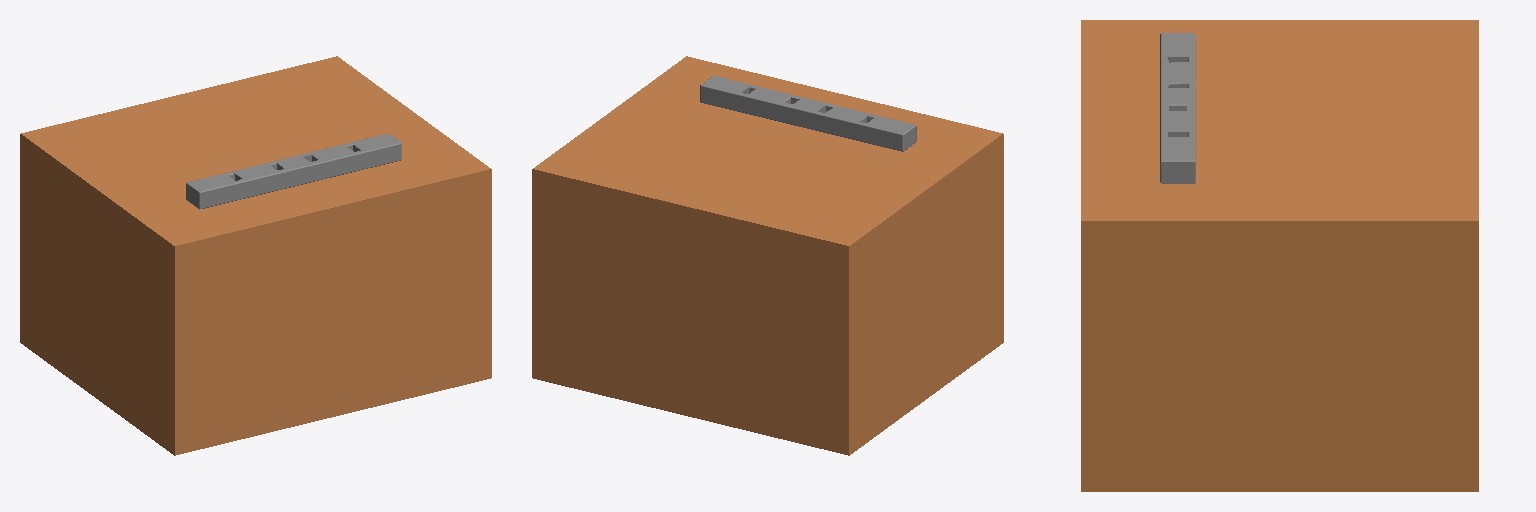
The robot description file, URDF, robot "table_beam_2x_2_scene_0001":
<?xml version="1.0"?>
<robot name="table_beam_2x_2_scene_0001">
  <link name="box">
    <visual>
      <material name="wood"><color rgba="0.82 0.56 0.35 1.0"/></material>
      <origin xyz="0 0 0"/>
      <geometry><box size="0.475 0.4 0.3"/></geometry>
    </visual>
    <collision>
      <origin xyz="0 0 0"/>
      <geometry><box size="0.475 0.4 0.3"/></geometry>
    </collision>
    <inertial>
      <mass value="500"/>
      <friction value="1.0"/>
      <inertia ixx="1000.0" ixy="0.0" ixz="0.0" iyy="1000.0" iyz="0.0" izz="1000.0"/>
    </inertial>
  </link>
  <link name="part_6_hull_0">
    <visual>
      <origin xyz="0 0 0" rpy="0 0 0"/>
      <geometry><mesh filename="../../6/coacd/decomp_0.obj" scale="1 1 1"/></geometry>
      <material name="placed_0"><color rgba="0.6 0.6 0.6 1.0"/></material>
    </visual>
    <collision>
      <origin xyz="0 0 0" rpy="0 0 0"/>
      <geometry><mesh filename="../../6/coacd/decomp_0.obj" scale="1 1 1"/></geometry>
    </collision>
  </link>
  <joint name="part_6_hull_0_joint" type="fixed">
    <parent link="box"/>
    <child link="part_6_hull_0"/>
    <origin xyz="-0.001603 -0.102223 0.162666" rpy="0.000000 0.000000 0.000000"/>
  </joint>
  <link name="part_6_hull_1">
    <visual>
      <origin xyz="0 0 0" rpy="0 0 0"/>
      <geometry><mesh filename="../../6/coacd/decomp_1.obj" scale="1 1 1"/></geometry>
      <material name="placed_1"><color rgba="0.6 0.6 0.6 1.0"/></material>
    </visual>
    <collision>
      <origin xyz="0 0 0" rpy="0 0 0"/>
      <geometry><mesh filename="../../6/coacd/decomp_1.obj" scale="1 1 1"/></geometry>
    </collision>
  </link>
  <joint name="part_6_hull_1_joint" type="fixed">
    <parent link="box"/>
    <child link="part_6_hull_1"/>
    <origin xyz="-0.001603 -0.102223 0.162666" rpy="0.000000 0.000000 0.000000"/>
  </joint>
  <link name="part_6_hull_2">
    <visual>
      <origin xyz="0 0 0" rpy="0 0 0"/>
      <geometry><mesh filename="../../6/coacd/decomp_10.obj" scale="1 1 1"/></geometry>
      <material name="placed_2"><color rgba="0.6 0.6 0.6 1.0"/></material>
    </visual>
    <collision>
      <origin xyz="0 0 0" rpy="0 0 0"/>
      <geometry><mesh filename="../../6/coacd/decomp_10.obj" scale="1 1 1"/></geometry>
    </collision>
  </link>
  <joint name="part_6_hull_2_joint" type="fixed">
    <parent link="box"/>
    <child link="part_6_hull_2"/>
    <origin xyz="-0.001603 -0.102223 0.162666" rpy="0.000000 0.000000 0.000000"/>
  </joint>
  <link name="part_6_hull_3">
    <visual>
      <origin xyz="0 0 0" rpy="0 0 0"/>
      <geometry><mesh filename="../../6/coacd/decomp_11.obj" scale="1 1 1"/></geometry>
      <material name="placed_3"><color rgba="0.6 0.6 0.6 1.0"/></material>
    </visual>
    <collision>
      <origin xyz="0 0 0" rpy="0 0 0"/>
      <geometry><mesh filename="../../6/coacd/decomp_11.obj" scale="1 1 1"/></geometry>
    </collision>
  </link>
  <joint name="part_6_hull_3_joint" type="fixed">
    <parent link="box"/>
    <child link="part_6_hull_3"/>
    <origin xyz="-0.001603 -0.102223 0.162666" rpy="0.000000 0.000000 0.000000"/>
  </joint>
  <link name="part_6_hull_4">
    <visual>
      <origin xyz="0 0 0" rpy="0 0 0"/>
      <geometry><mesh filename="../../6/coacd/decomp_12.obj" scale="1 1 1"/></geometry>
      <material name="placed_4"><color rgba="0.6 0.6 0.6 1.0"/></material>
    </visual>
    <collision>
      <origin xyz="0 0 0" rpy="0 0 0"/>
      <geometry><mesh filename="../../6/coacd/decomp_12.obj" scale="1 1 1"/></geometry>
    </collision>
  </link>
  <joint name="part_6_hull_4_joint" type="fixed">
    <parent link="box"/>
    <child link="part_6_hull_4"/>
    <origin xyz="-0.001603 -0.102223 0.162666" rpy="0.000000 0.000000 0.000000"/>
  </joint>
  <link name="part_6_hull_5">
    <visual>
      <origin xyz="0 0 0" rpy="0 0 0"/>
      <geometry><mesh filename="../../6/coacd/decomp_13.obj" scale="1 1 1"/></geometry>
      <material name="placed_5"><color rgba="0.6 0.6 0.6 1.0"/></material>
    </visual>
    <collision>
      <origin xyz="0 0 0" rpy="0 0 0"/>
      <geometry><mesh filename="../../6/coacd/decomp_13.obj" scale="1 1 1"/></geometry>
    </collision>
  </link>
  <joint name="part_6_hull_5_joint" type="fixed">
    <parent link="box"/>
    <child link="part_6_hull_5"/>
    <origin xyz="-0.001603 -0.102223 0.162666" rpy="0.000000 0.000000 0.000000"/>
  </joint>
  <link name="part_6_hull_6">
    <visual>
      <origin xyz="0 0 0" rpy="0 0 0"/>
      <geometry><mesh filename="../../6/coacd/decomp_2.obj" scale="1 1 1"/></geometry>
      <material name="placed_6"><color rgba="0.6 0.6 0.6 1.0"/></material>
    </visual>
    <collision>
      <origin xyz="0 0 0" rpy="0 0 0"/>
      <geometry><mesh filename="../../6/coacd/decomp_2.obj" scale="1 1 1"/></geometry>
    </collision>
  </link>
  <joint name="part_6_hull_6_joint" type="fixed">
    <parent link="box"/>
    <child link="part_6_hull_6"/>
    <origin xyz="-0.001603 -0.102223 0.162666" rpy="0.000000 0.000000 0.000000"/>
  </joint>
  <link name="part_6_hull_7">
    <visual>
      <origin xyz="0 0 0" rpy="0 0 0"/>
      <geometry><mesh filename="../../6/coacd/decomp_3.obj" scale="1 1 1"/></geometry>
      <material name="placed_7"><color rgba="0.6 0.6 0.6 1.0"/></material>
    </visual>
    <collision>
      <origin xyz="0 0 0" rpy="0 0 0"/>
      <geometry><mesh filename="../../6/coacd/decomp_3.obj" scale="1 1 1"/></geometry>
    </collision>
  </link>
  <joint name="part_6_hull_7_joint" type="fixed">
    <parent link="box"/>
    <child link="part_6_hull_7"/>
    <origin xyz="-0.001603 -0.102223 0.162666" rpy="0.000000 0.000000 0.000000"/>
  </joint>
  <link name="part_6_hull_8">
    <visual>
      <origin xyz="0 0 0" rpy="0 0 0"/>
      <geometry><mesh filename="../../6/coacd/decomp_4.obj" scale="1 1 1"/></geometry>
      <material name="placed_8"><color rgba="0.6 0.6 0.6 1.0"/></material>
    </visual>
    <collision>
      <origin xyz="0 0 0" rpy="0 0 0"/>
      <geometry><mesh filename="../../6/coacd/decomp_4.obj" scale="1 1 1"/></geometry>
    </collision>
  </link>
  <joint name="part_6_hull_8_joint" type="fixed">
    <parent link="box"/>
    <child link="part_6_hull_8"/>
    <origin xyz="-0.001603 -0.102223 0.162666" rpy="0.000000 0.000000 0.000000"/>
  </joint>
  <link name="part_6_hull_9">
    <visual>
      <origin xyz="0 0 0" rpy="0 0 0"/>
      <geometry><mesh filename="../../6/coacd/decomp_5.obj" scale="1 1 1"/></geometry>
      <material name="placed_9"><color rgba="0.6 0.6 0.6 1.0"/></material>
    </visual>
    <collision>
      <origin xyz="0 0 0" rpy="0 0 0"/>
      <geometry><mesh filename="../../6/coacd/decomp_5.obj" scale="1 1 1"/></geometry>
    </collision>
  </link>
  <joint name="part_6_hull_9_joint" type="fixed">
    <parent link="box"/>
    <child link="part_6_hull_9"/>
    <origin xyz="-0.001603 -0.102223 0.162666" rpy="0.000000 0.000000 0.000000"/>
  </joint>
  <link name="part_6_hull_10">
    <visual>
      <origin xyz="0 0 0" rpy="0 0 0"/>
      <geometry><mesh filename="../../6/coacd/decomp_6.obj" scale="1 1 1"/></geometry>
      <material name="placed_10"><color rgba="0.6 0.6 0.6 1.0"/></material>
    </visual>
    <collision>
      <origin xyz="0 0 0" rpy="0 0 0"/>
      <geometry><mesh filename="../../6/coacd/decomp_6.obj" scale="1 1 1"/></geometry>
    </collision>
  </link>
  <joint name="part_6_hull_10_joint" type="fixed">
    <parent link="box"/>
    <child link="part_6_hull_10"/>
    <origin xyz="-0.001603 -0.102223 0.162666" rpy="0.000000 0.000000 0.000000"/>
  </joint>
  <link name="part_6_hull_11">
    <visual>
      <origin xyz="0 0 0" rpy="0 0 0"/>
      <geometry><mesh filename="../../6/coacd/decomp_7.obj" scale="1 1 1"/></geometry>
      <material name="placed_11"><color rgba="0.6 0.6 0.6 1.0"/></material>
    </visual>
    <collision>
      <origin xyz="0 0 0" rpy="0 0 0"/>
      <geometry><mesh filename="../../6/coacd/decomp_7.obj" scale="1 1 1"/></geometry>
    </collision>
  </link>
  <joint name="part_6_hull_11_joint" type="fixed">
    <parent link="box"/>
    <child link="part_6_hull_11"/>
    <origin xyz="-0.001603 -0.102223 0.162666" rpy="0.000000 0.000000 0.000000"/>
  </joint>
  <link name="part_6_hull_12">
    <visual>
      <origin xyz="0 0 0" rpy="0 0 0"/>
      <geometry><mesh filename="../../6/coacd/decomp_8.obj" scale="1 1 1"/></geometry>
      <material name="placed_12"><color rgba="0.6 0.6 0.6 1.0"/></material>
    </visual>
    <collision>
      <origin xyz="0 0 0" rpy="0 0 0"/>
      <geometry><mesh filename="../../6/coacd/decomp_8.obj" scale="1 1 1"/></geometry>
    </collision>
  </link>
  <joint name="part_6_hull_12_joint" type="fixed">
    <parent link="box"/>
    <child link="part_6_hull_12"/>
    <origin xyz="-0.001603 -0.102223 0.162666" rpy="0.000000 0.000000 0.000000"/>
  </joint>
  <link name="part_6_hull_13">
    <visual>
      <origin xyz="0 0 0" rpy="0 0 0"/>
      <geometry><mesh filename="../../6/coacd/decomp_9.obj" scale="1 1 1"/></geometry>
      <material name="placed_13"><color rgba="0.6 0.6 0.6 1.0"/></material>
    </visual>
    <collision>
      <origin xyz="0 0 0" rpy="0 0 0"/>
      <geometry><mesh filename="../../6/coacd/decomp_9.obj" scale="1 1 1"/></geometry>
    </collision>
  </link>
  <joint name="part_6_hull_13_joint" type="fixed">
    <parent link="box"/>
    <child link="part_6_hull_13"/>
    <origin xyz="-0.001603 -0.102223 0.162666" rpy="0.000000 0.000000 0.000000"/>
  </joint>
</robot>

--- Facts derived from the render (not from the file) ---
3 views of the same robot in one strip: view 1: azimuth 30°, elevation 25°; view 2: azimuth 150°, elevation 25°; view 3: azimuth 270°, elevation 25° (orthographic).
Model table_beam_2x_2_scene_0001 with 15 links and 14 joints (14 fixed), rooted at box, posed all joints at 0.
Visible links, largest first — view 1: box, part_6_hull_1, part_6_hull_0, part_6_hull_9, part_6_hull_5, part_6_hull_3; view 2: box, part_6_hull_1, part_6_hull_0, part_6_hull_2, part_6_hull_5, part_6_hull_12; view 3: box, part_6_hull_0, part_6_hull_1, part_6_hull_5, part_6_hull_2.
Link boxes in pixels (x1,y1,x2,y2): box: (20, 56, 491, 455); part_6_hull_1: (186, 173, 237, 209); part_6_hull_0: (351, 133, 401, 168); part_6_hull_9: (236, 169, 287, 199); part_6_hull_5: (318, 144, 356, 177); part_6_hull_3: (288, 158, 329, 186); box: (532, 56, 1003, 455); part_6_hull_1: (864, 116, 916, 151); part_6_hull_0: (700, 76, 750, 111); part_6_hull_2: (822, 108, 866, 140); part_6_hull_5: (746, 87, 784, 119); part_6_hull_12: (773, 101, 813, 128); box: (1081, 20, 1478, 491); part_6_hull_0: (1160, 137, 1195, 183); part_6_hull_1: (1160, 33, 1195, 62); part_6_hull_5: (1160, 115, 1195, 136); part_6_hull_2: (1169, 62, 1195, 87).
Size in the robot's own frame: 0.475 by 0.4 by 0.3254 metres.
14 mesh visuals loaded from 14 distinct referenced files (14 OBJ).
